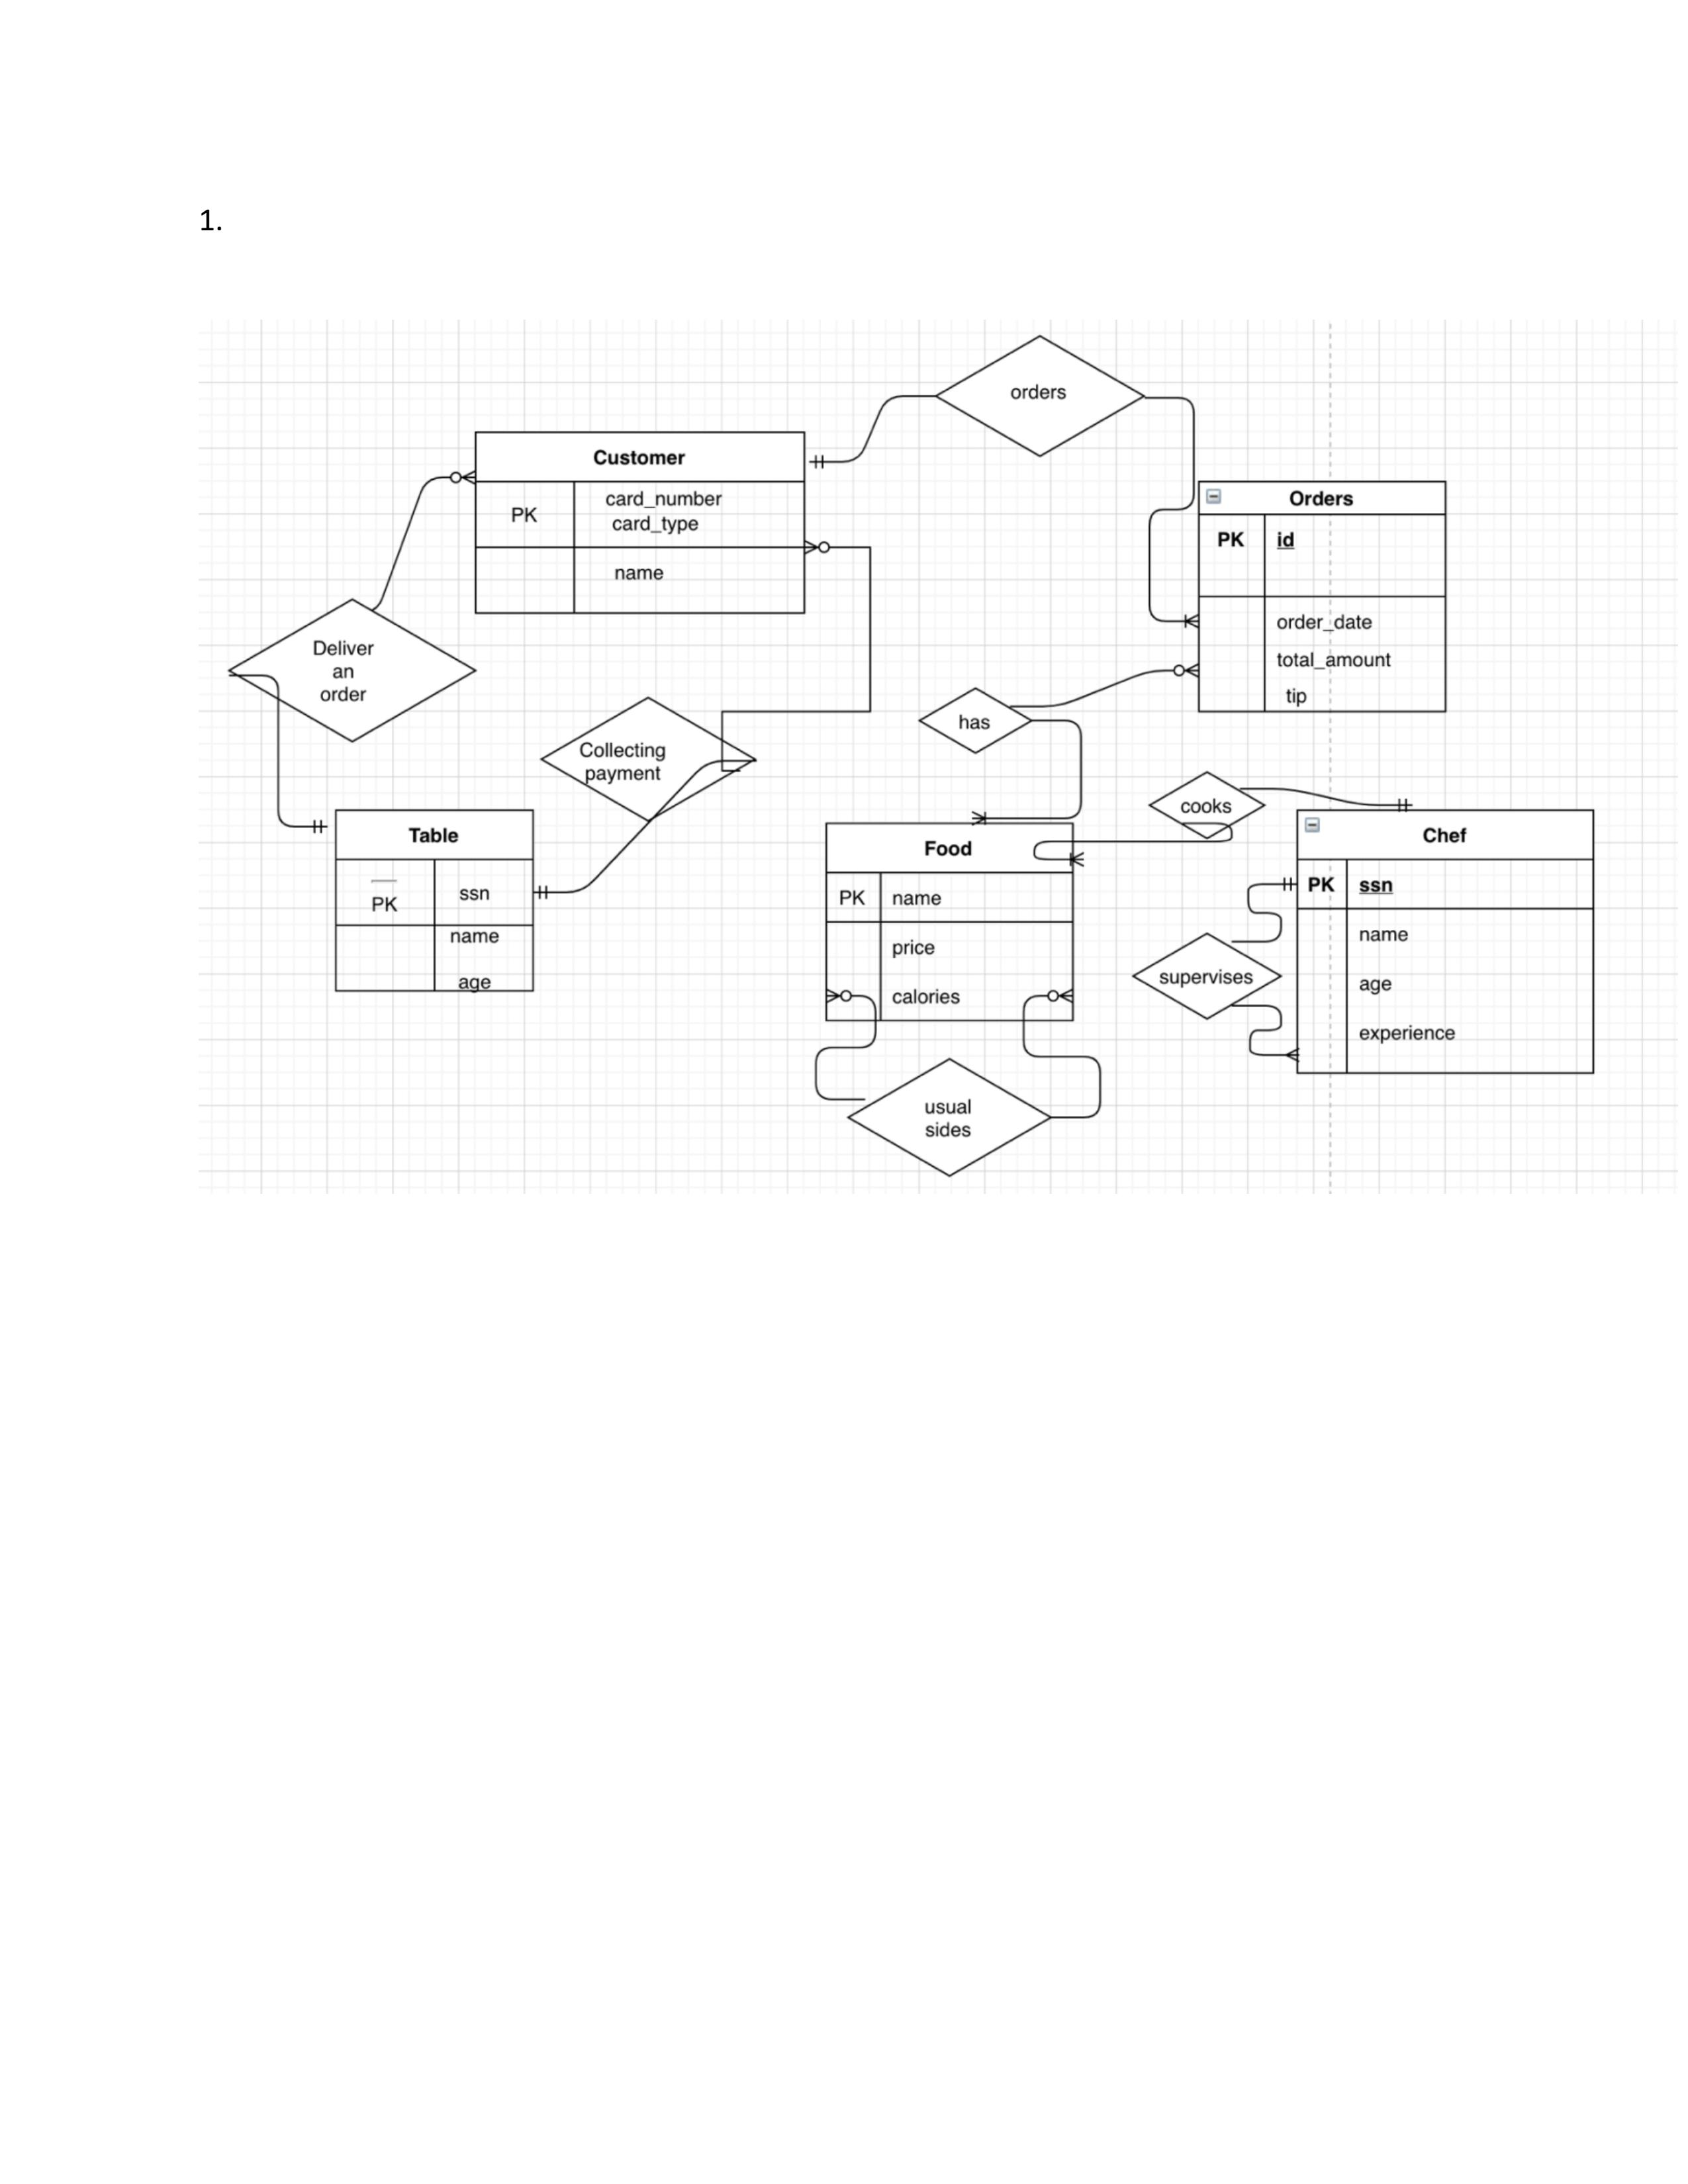Entity: (1289, 803, 1605, 1081), (1195, 477, 1450, 718), (475, 431, 807, 615), (816, 815, 1080, 1030), (333, 803, 535, 998)
Relationship: (232, 594, 481, 737), (543, 697, 757, 824), (849, 1055, 1055, 1181), (938, 335, 1144, 459), (1131, 931, 1280, 1021), (1147, 768, 1266, 842), (917, 688, 1030, 757)
